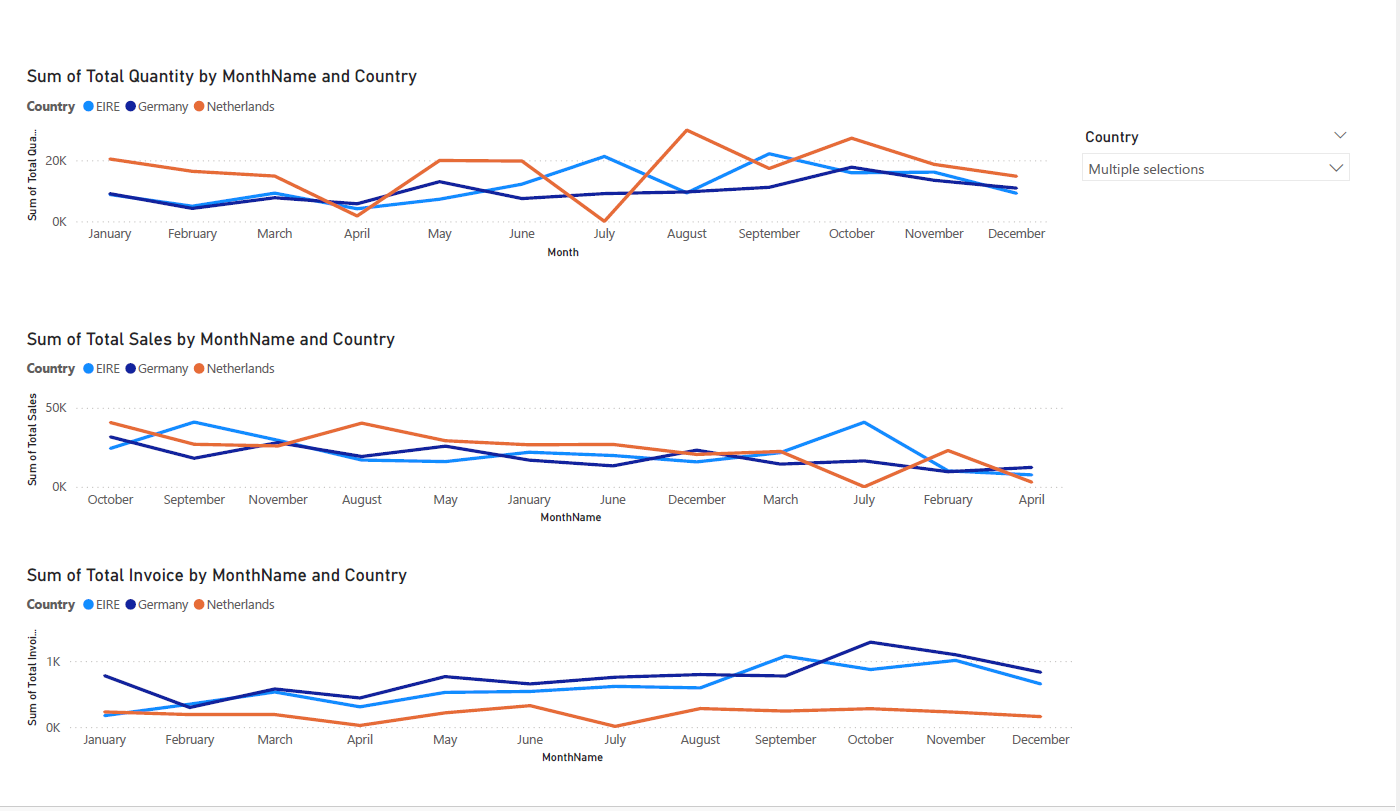

This screenshot's page, from the dashboard's own definition file:
{"tool":"powerbi","page":{"name":"Analysis by Country & Month Name","canvas":[1280,720],"ordinal":2},"visuals":[{"type":"lineChart","fields":{"Category":["Monthly_Sales_Analysis.MonthName"],"Series":["Monthly_Sales_Analysis.Country"],"Y":["Sum(Monthly_Sales_Analysis.Total Quantity)"]},"box":[0,41.2,981.2,187.5],"z":0},{"type":"slicer","fields":{"Values":["Monhly Sales analysis.Country"]},"box":[996.7,95.6,274.4,77.8],"z":1000},{"type":"lineChart","fields":{"Y":["Sum(Monhly Sales analysis.Total Sales)"],"Category":["Monhly Sales analysis.MonthName"],"Series":["Monhly_Sales_analysis.Country"]},"box":[0,290,996.2,191.2],"z":2000},{"type":"lineChart","fields":{"Series":["Monhly_Sales_analysis.Country"],"Category":["Monhly_Sales_analysis.MonthName"],"Y":["Sum(Monthly_Sales_Analysis.Total Invoice)"]},"box":[0,513.8,1005,195],"z":3000}]}

Visuals, with their boxes in screenshot pixels (x1, y1, x2, y2), scaled from the page's 1280x720 canvas onto the 1400x811 screenshot:
lineChart - Monthly_Sales_Analysis.MonthName x Monthly_Sales_Analysis.Country: bbox=(0, 46, 1073, 258)
slicer - Monhly Sales analysis.Country: bbox=(1090, 108, 1390, 195)
lineChart - Sum(Monhly Sales analysis.Total Sales) x Monhly Sales analysis.MonthName: bbox=(0, 327, 1090, 542)
lineChart - Monhly_Sales_analysis.Country x Monhly_Sales_analysis.MonthName: bbox=(0, 579, 1099, 798)
